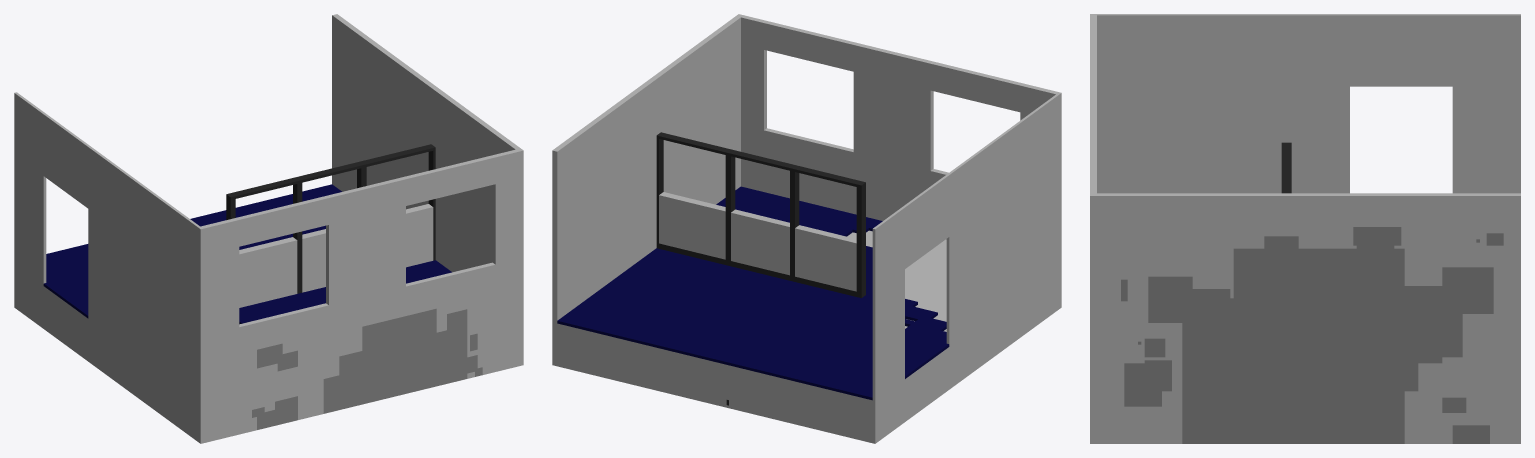
The model's file is 2x2 first 1(1)-3.obj.
3 renders of one model, left to right at view 1: azimuth 30°, elevation 25°; view 2: azimuth 150°, elevation 25°; view 3: azimuth 270°, elevation 25°, orthographic. The views are drawn at different scales.
Parts seen in each view (by area): view 1: 2x2 first 1(1)-3; view 2: 2x2 first 1(1)-3; view 3: 2x2 first 1(1)-3.
Boxes of the visible parts, x1,y1,x2,y2 form: 2x2 first 1(1)-3: (14,14,523,443); 2x2 first 1(1)-3: (552,14,1061,443); 2x2 first 1(1)-3: (1090,14,1520,443).
Bounding box in the file's own units: 126 × 80 × 126.
1 material, 1 textured.
